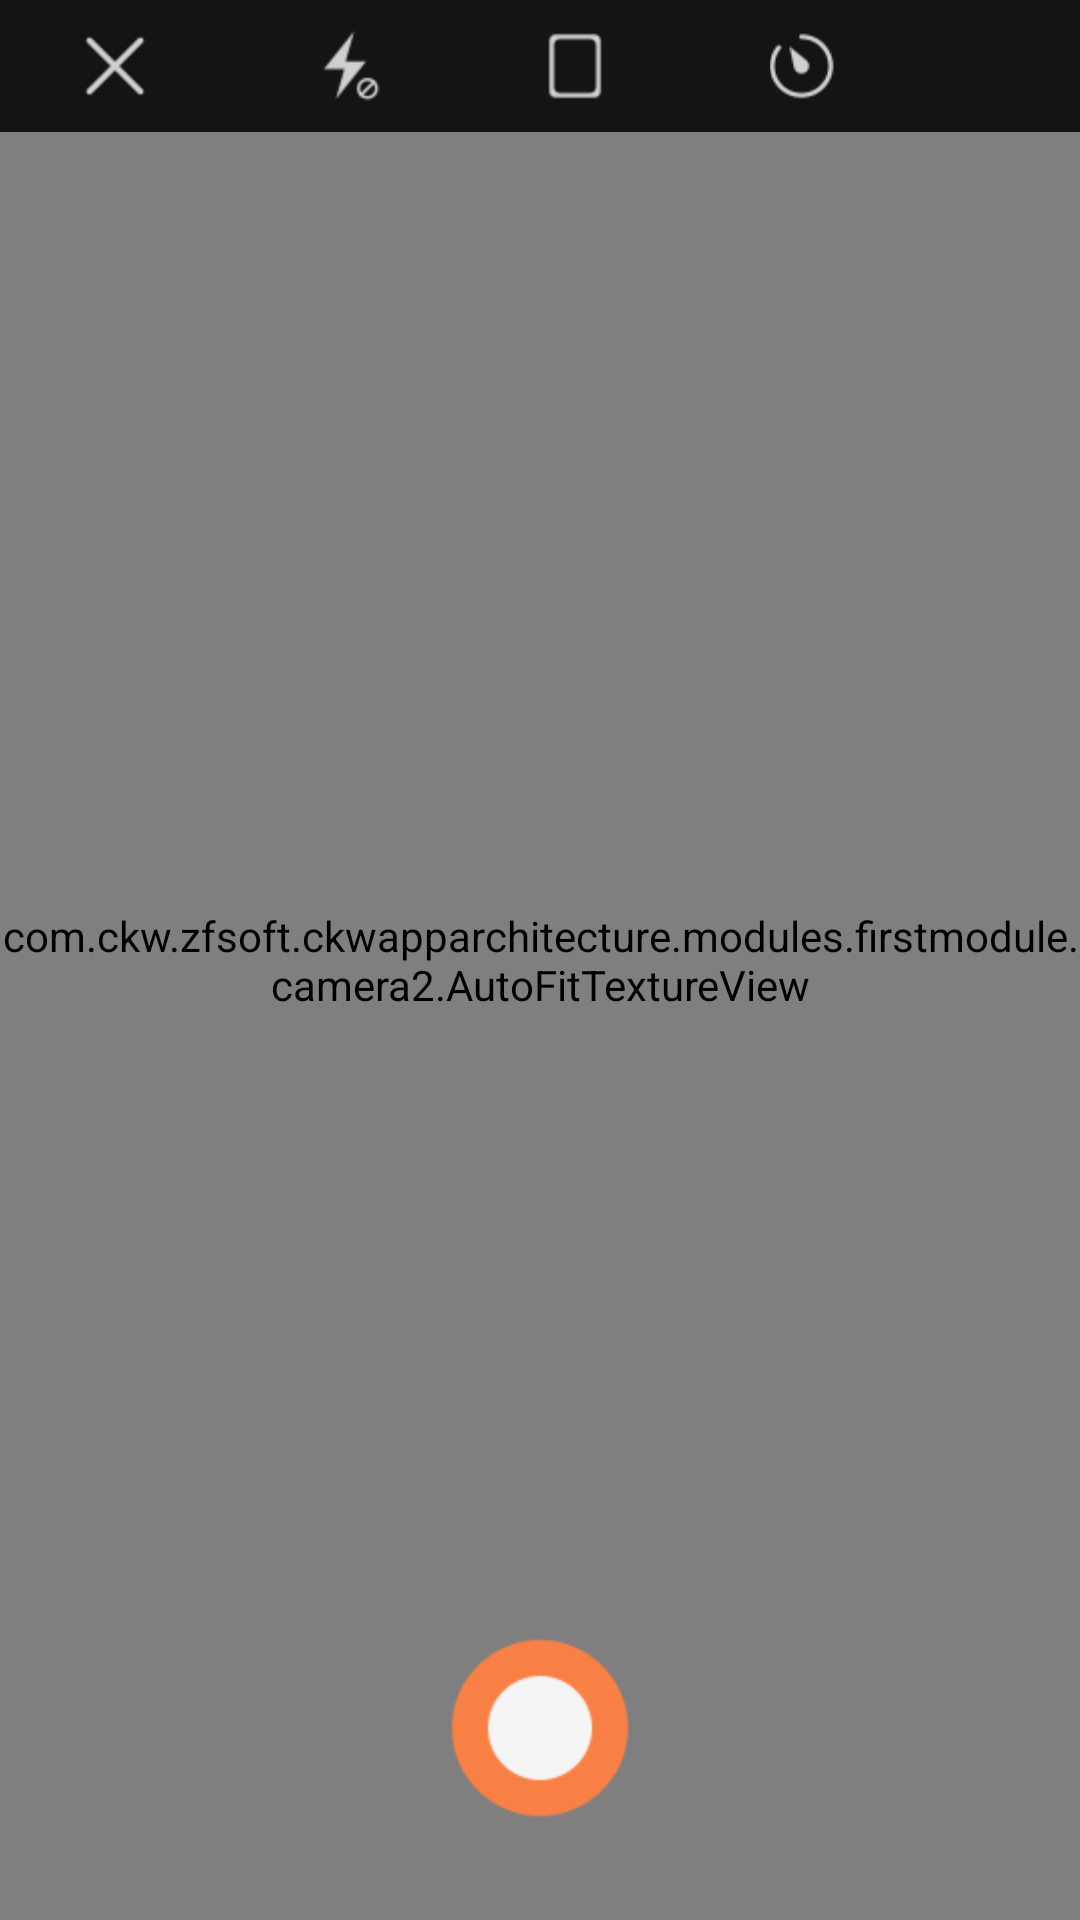

Point at icon controls on the screen. Image size 1080 x 1920, points as point (x, y).
camera close: point (115, 66)
camera size: point (575, 66)
camera timing: point (802, 66)
flash: point (351, 66)
homepage camera: point (540, 1728)
